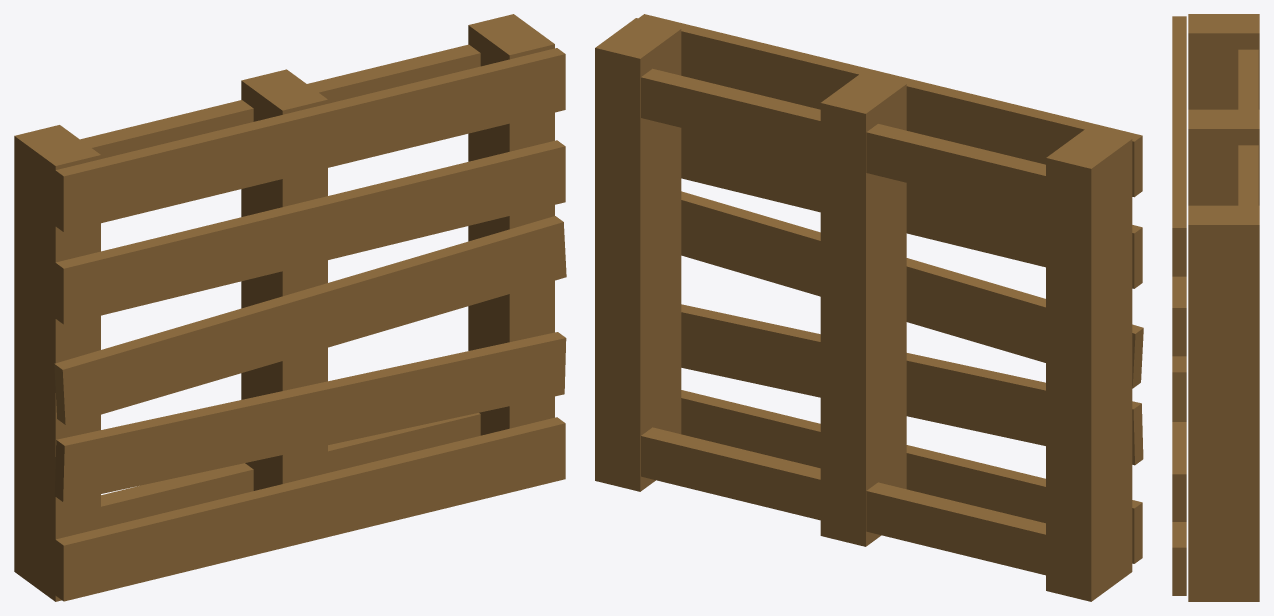
File: SM_PaletteA.glb
3 renders of one model, left to right at view 1: azimuth 30°, elevation 25°; view 2: azimuth 150°, elevation 25°; view 3: azimuth 270°, elevation 25°, orthographic. The views are drawn at different scales.
Parts seen in each view (by area): view 1: part_00; view 2: part_00; view 3: part_00.
Part boxes in pixels (<box>): part_00: <box>14,14,566,601</box>; part_00: <box>595,14,1143,601</box>; part_00: <box>1172,14,1259,601</box>.
Bounding box in the file's own units: 1.21 × 1 × 0.2111.
